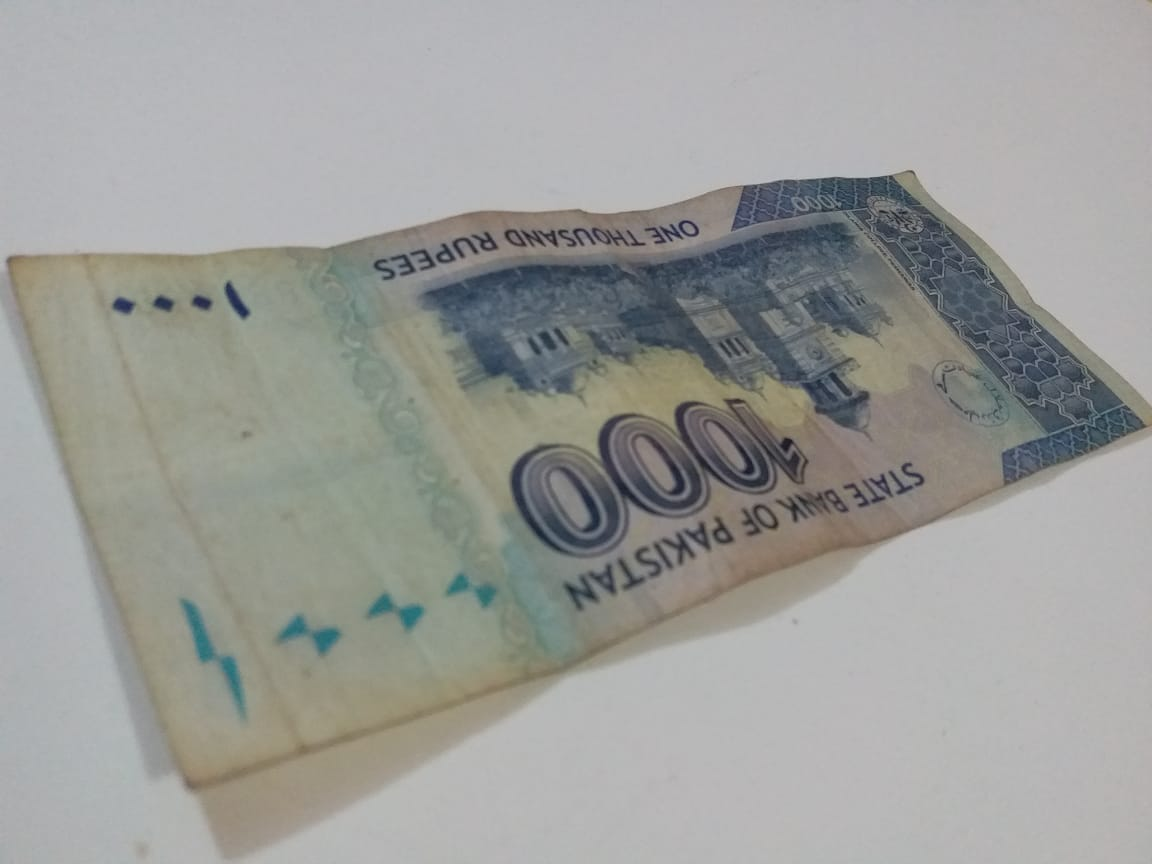1000 rupee: (28, 86, 1118, 796)
